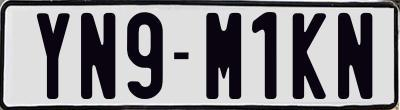1: (250, 9, 275, 97)
9: (127, 12, 164, 99)
K: (290, 13, 328, 100)
M: (206, 13, 244, 104)
N: (81, 12, 118, 100), (336, 11, 370, 97)
Y: (37, 12, 71, 99)
